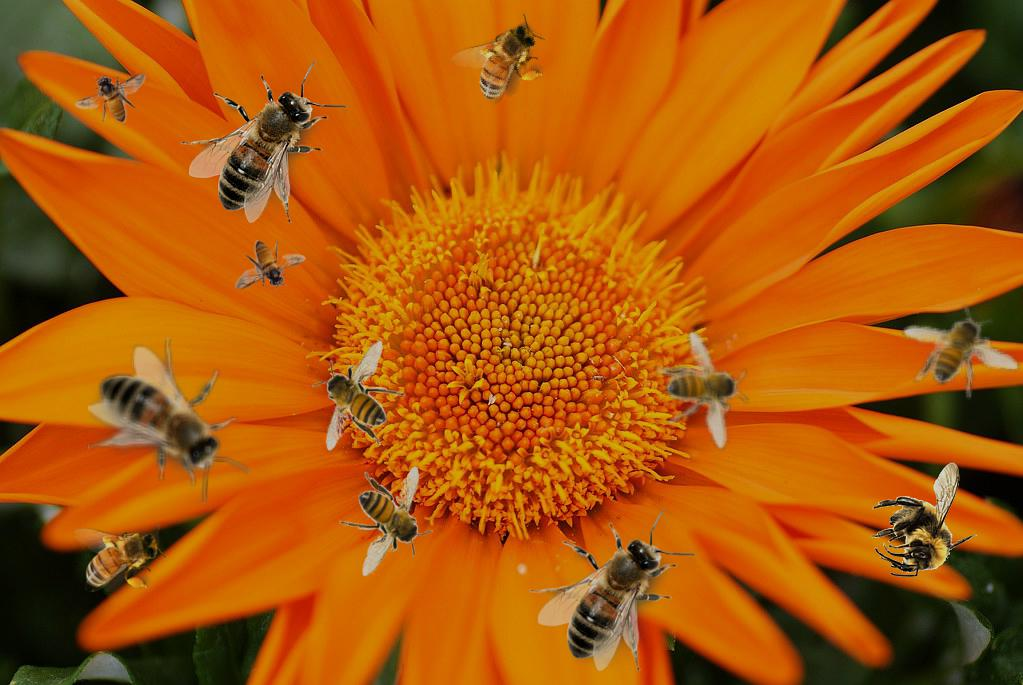Bee: (529, 509, 696, 671), (88, 337, 250, 504), (180, 61, 347, 223), (631, 320, 776, 466), (899, 298, 1023, 408), (871, 462, 978, 577), (446, 9, 562, 114), (312, 340, 406, 451), (339, 466, 433, 577), (73, 524, 166, 592), (235, 240, 306, 290), (75, 73, 146, 123)
